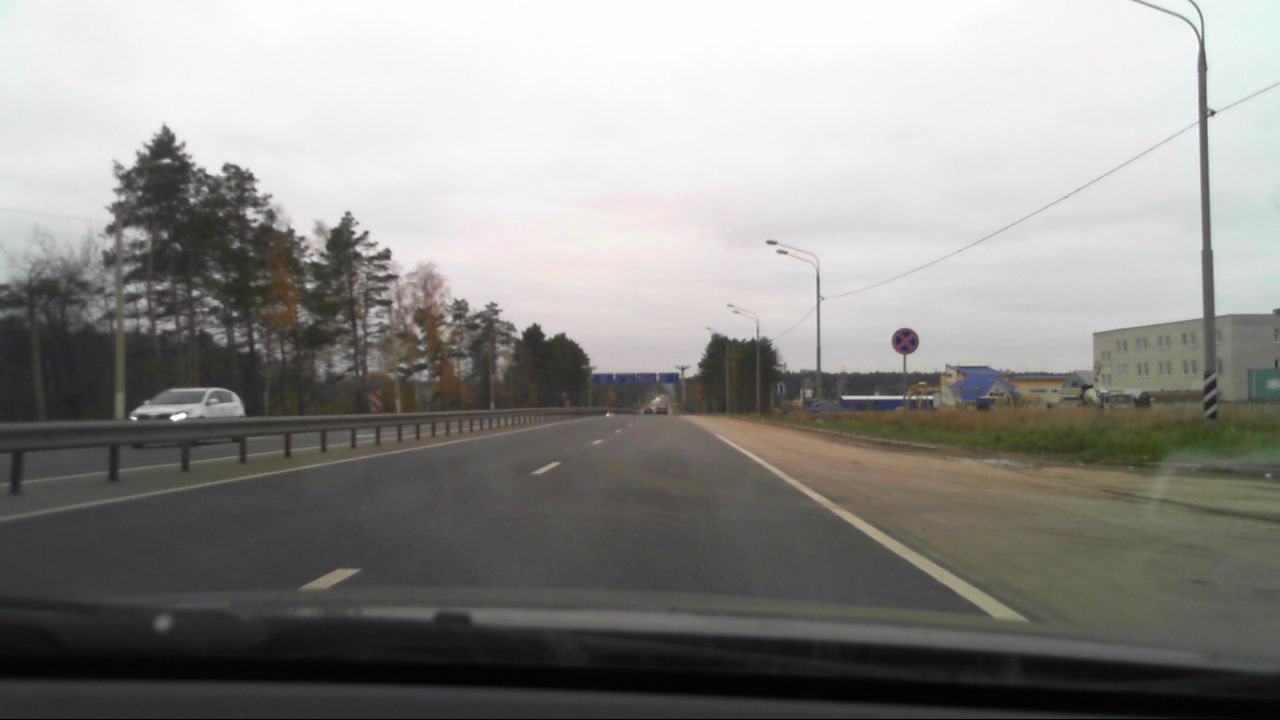No Parking: (893, 328, 920, 354)
